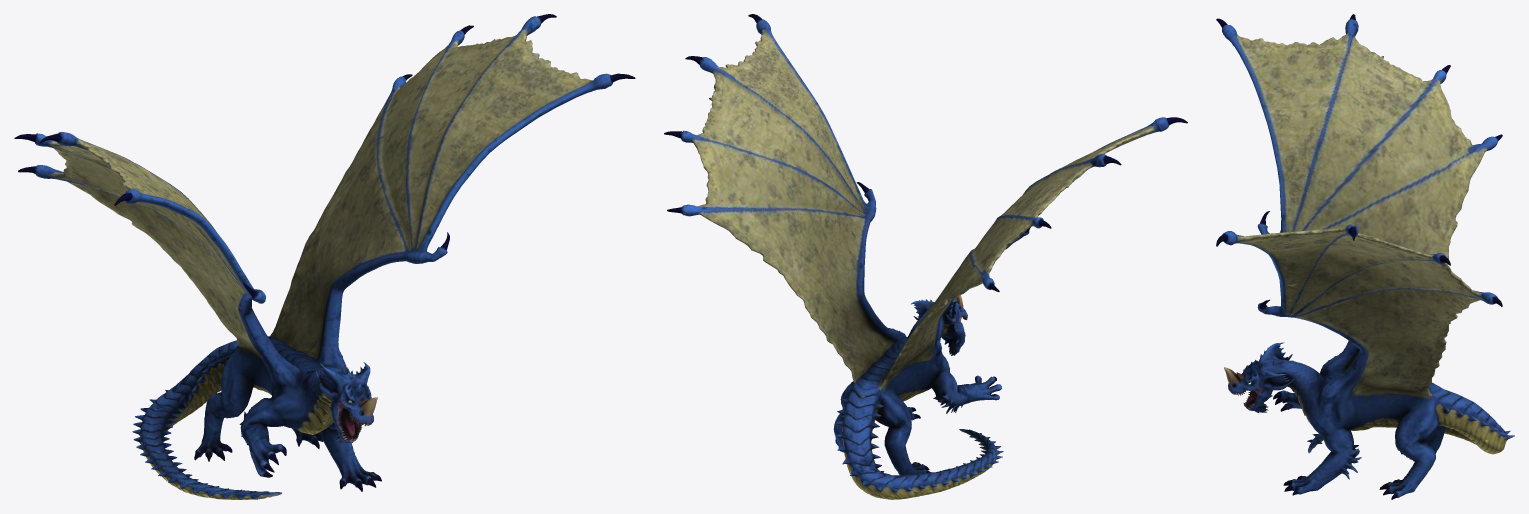
Rendered from MZ4250 - Blue Dragon Ancient.glb.
3 renders of one model, left to right at view 1: azimuth 30°, elevation 25°; view 2: azimuth 150°, elevation 25°; view 3: azimuth 270°, elevation 25°, orthographic. The views are drawn at different scales.
Parts seen in each view (by area): view 1: Head Base Sphere.001; view 2: Head Base Sphere.001; view 3: Head Base Sphere.001.
Boxes of the visible parts, x1,y1,x2,y2 form: Head Base Sphere.001: (14,14,635,499); Head Base Sphere.001: (664,14,1187,499); Head Base Sphere.001: (1216,14,1514,499).
Bounding box in the file's own units: 7.41 × 5.39 × 4.13.
1 material, 1 textured.
